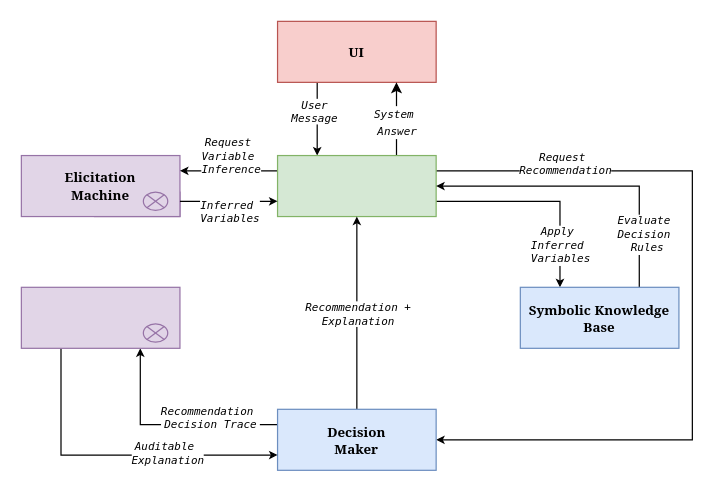
The diagram is 721 pixels wide and 504 high, and some of its shapes have lost their labels. Each missing label, with the box of its shape:
Orchestrator: (276, 154, 436, 217)
Recommendation Explainer: (20, 286, 180, 348)
